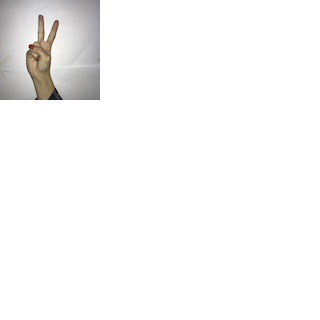scissors: (23, 12, 59, 77)
